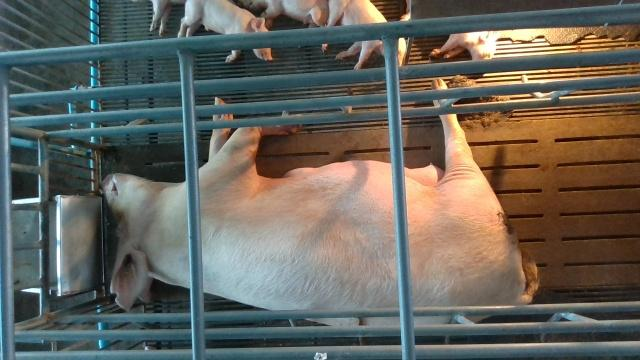piglet: (322, 0, 407, 71), (178, 0, 273, 62), (237, 0, 328, 28), (429, 28, 499, 61)
sow-sleep: (102, 77, 539, 326)
